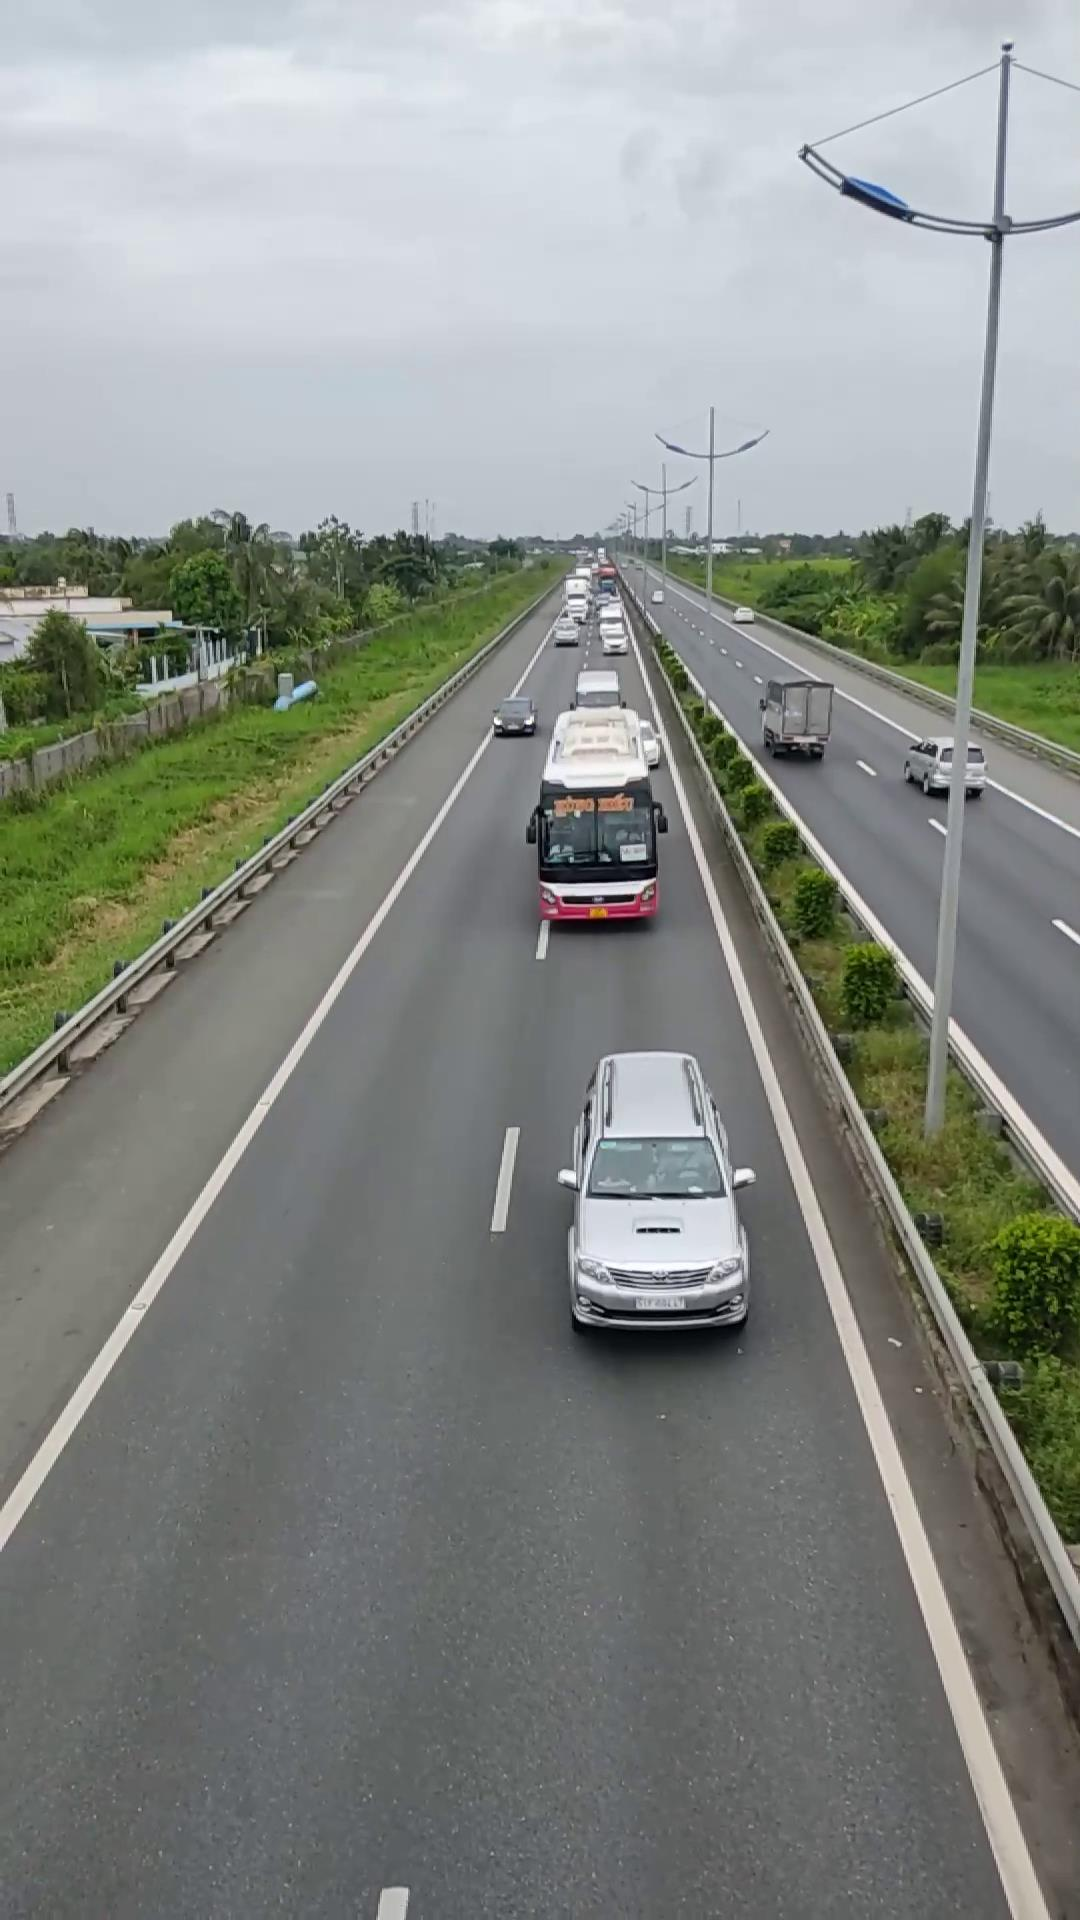bus: (529, 707, 666, 926)
car: (558, 1048, 754, 1335)
truck: (756, 670, 833, 758)
